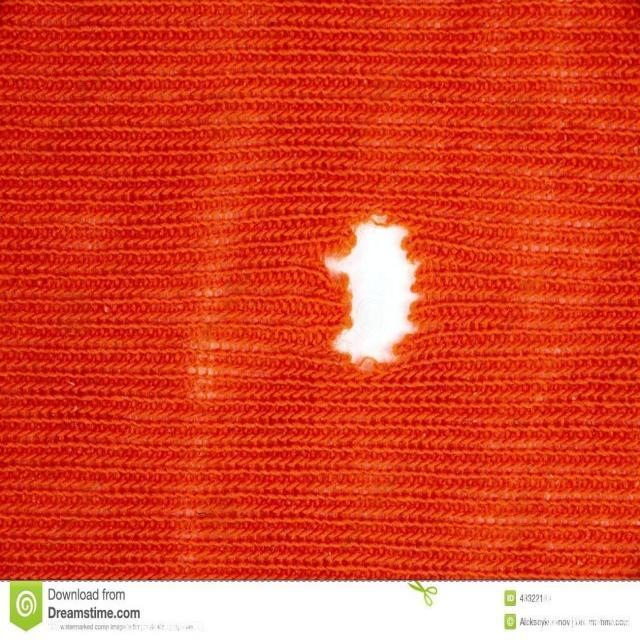Hole: (325, 216, 419, 363)
